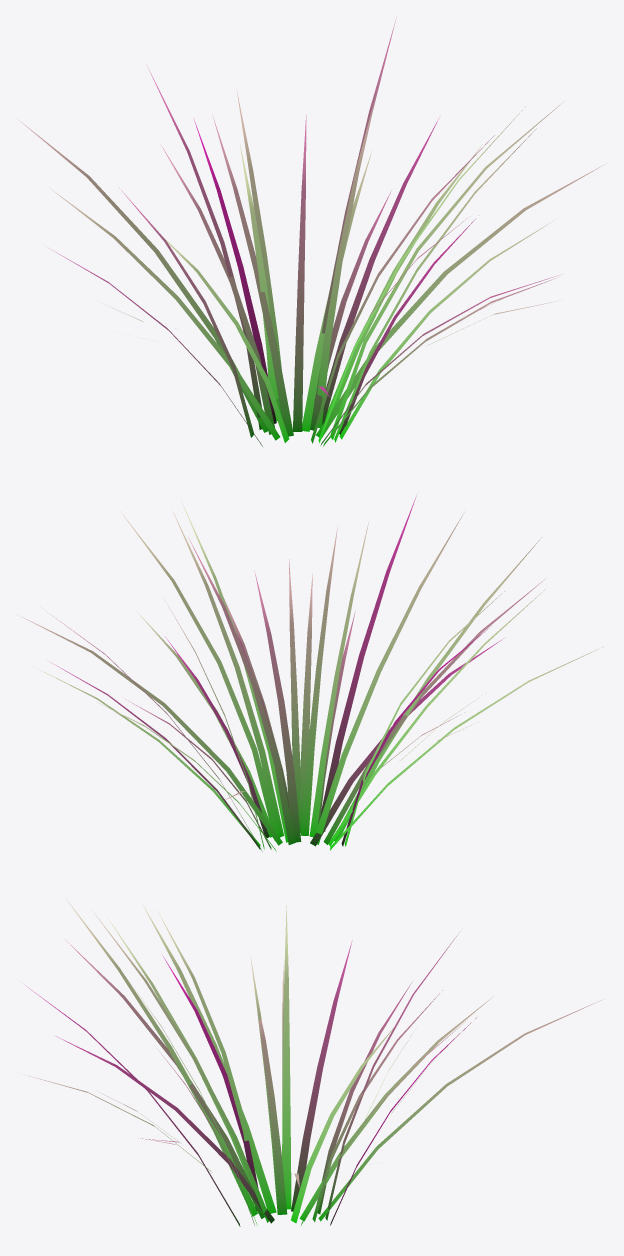
The model's file is grass_c.glb.
The picture shows the model from 3 angles, top to bottom: view 1: azimuth 30°, elevation 25°; view 2: azimuth 150°, elevation 25°; view 3: azimuth 270°, elevation 25°; orthographic projection. The views are drawn at different scales.
Parts seen in each view (by area): view 1: Grass_C; view 2: Grass_C; view 3: Grass_C.
Part boxes in pixels (x1,y1,x2,y2): Grass_C: (16,17,604,446); Grass_C: (16,495,604,851); Grass_C: (24,898,603,1226).
Size of the model in its own units: 1.05 by 0.555 by 1.05.
